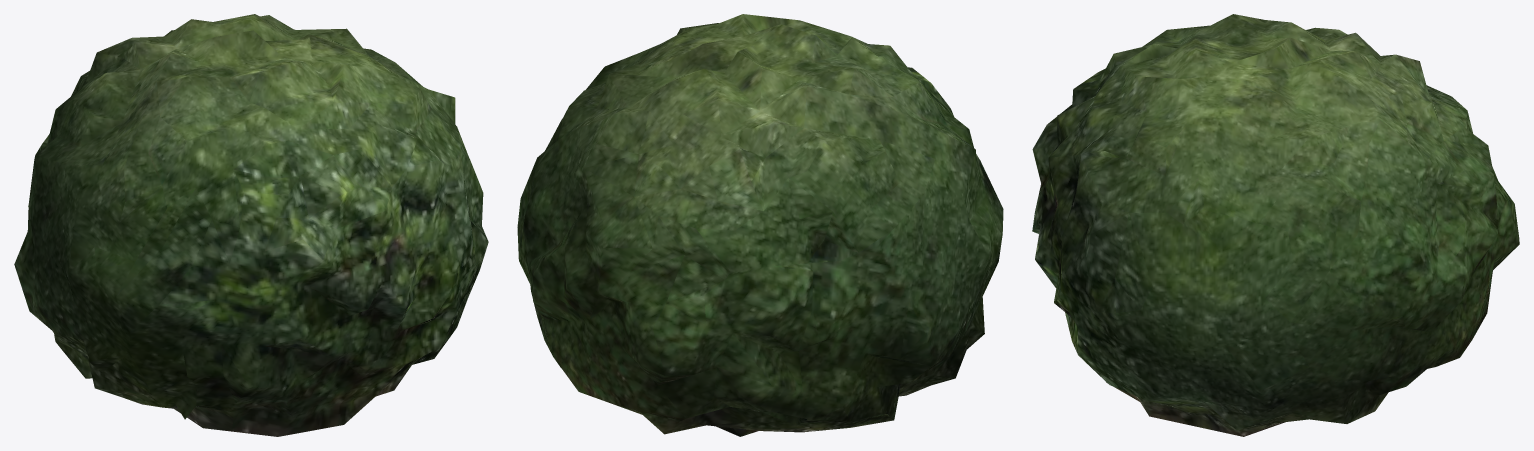
File: plant_shrub.glb
The picture shows the model from 3 angles, left to right: view 1: azimuth 30°, elevation 25°; view 2: azimuth 150°, elevation 25°; view 3: azimuth 270°, elevation 25°; orthographic projection. The views are drawn at different scales.
Parts seen in each view (by area): view 1: bush_shrub; view 2: bush_shrub; view 3: bush_shrub.
Boxes of the visible parts, box(x1,y1,x2,y2) form: bush_shrub: box(14, 14, 488, 436); bush_shrub: box(517, 14, 1003, 436); bush_shrub: box(1032, 14, 1519, 436).
Size of the model in its own units: 1.56 by 1.22 by 1.62.
Materials: 1 (1 with a texture image).
